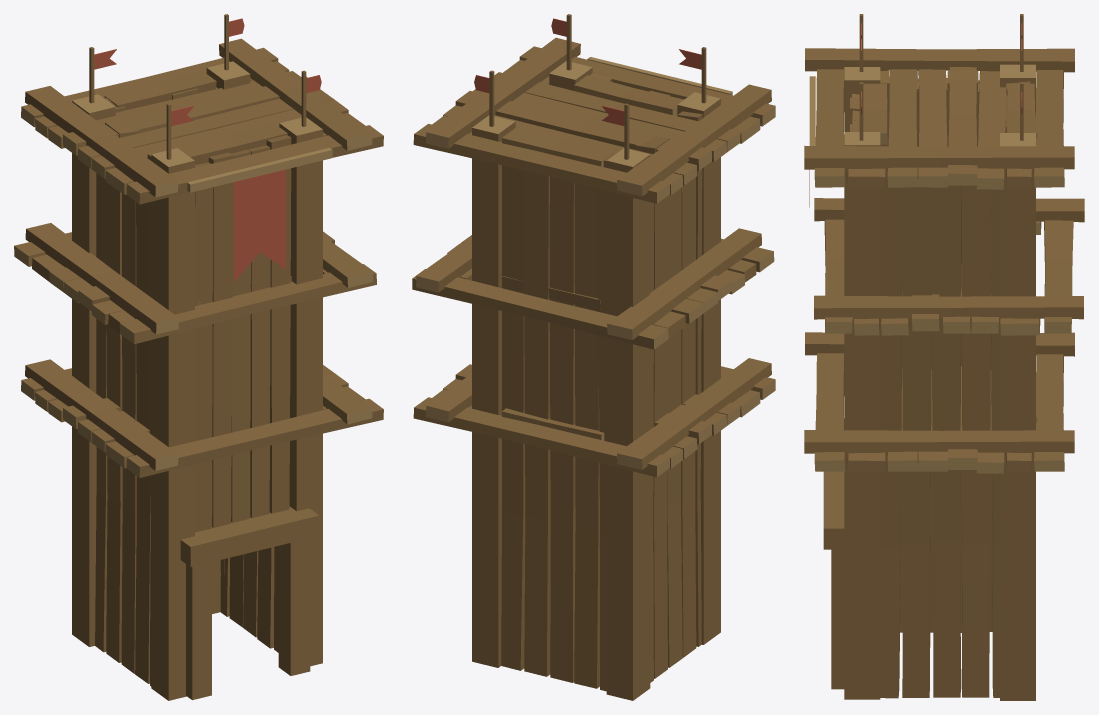
Rendered from Watch Tower-VJZZW37Vsk.glb.
The picture shows the model from 3 angles, left to right: view 1: azimuth 30°, elevation 25°; view 2: azimuth 150°, elevation 25°; view 3: azimuth 270°, elevation 25°; orthographic projection. The views are drawn at different scales.
Parts seen in each view (by area): view 1: Watch Tower-VJZZW37Vsk; view 2: Watch Tower-VJZZW37Vsk; view 3: Watch Tower-VJZZW37Vsk.
Boxes of the visible parts, box(x1,y1,x2,y2) form: Watch Tower-VJZZW37Vsk: box(14, 14, 383, 700); Watch Tower-VJZZW37Vsk: box(412, 14, 775, 700); Watch Tower-VJZZW37Vsk: box(804, 14, 1084, 700).
Bounding box in the file's own units: 0.7123 × 1.64 × 0.6795.
